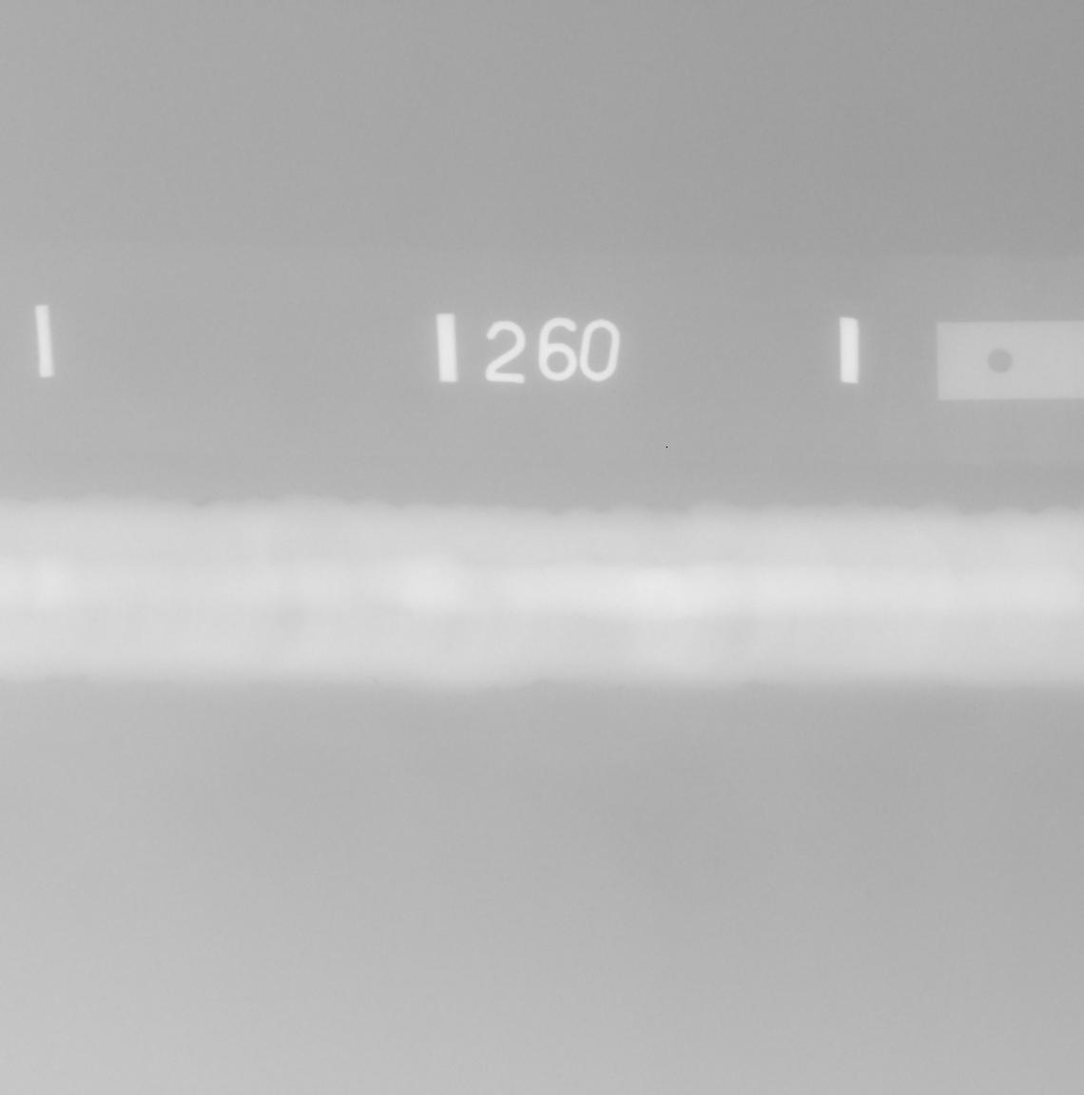Pore/Porosity: (373, 678, 380, 686), (329, 683, 334, 687)
